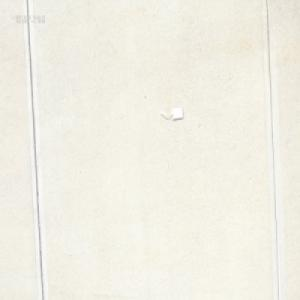LuggageTag: (160, 105, 183, 122)
